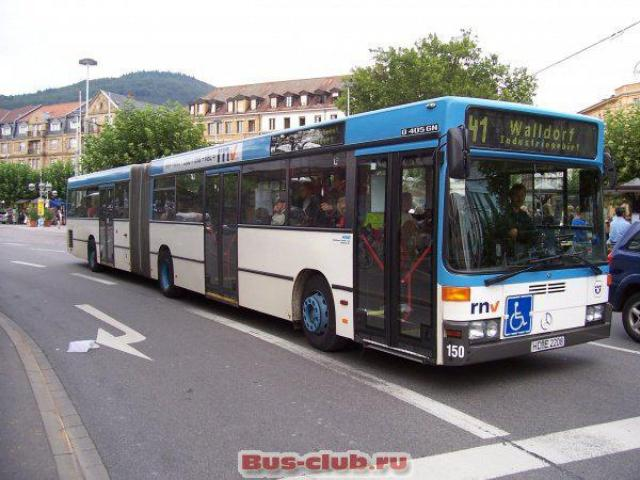bus: (61, 90, 617, 377)
